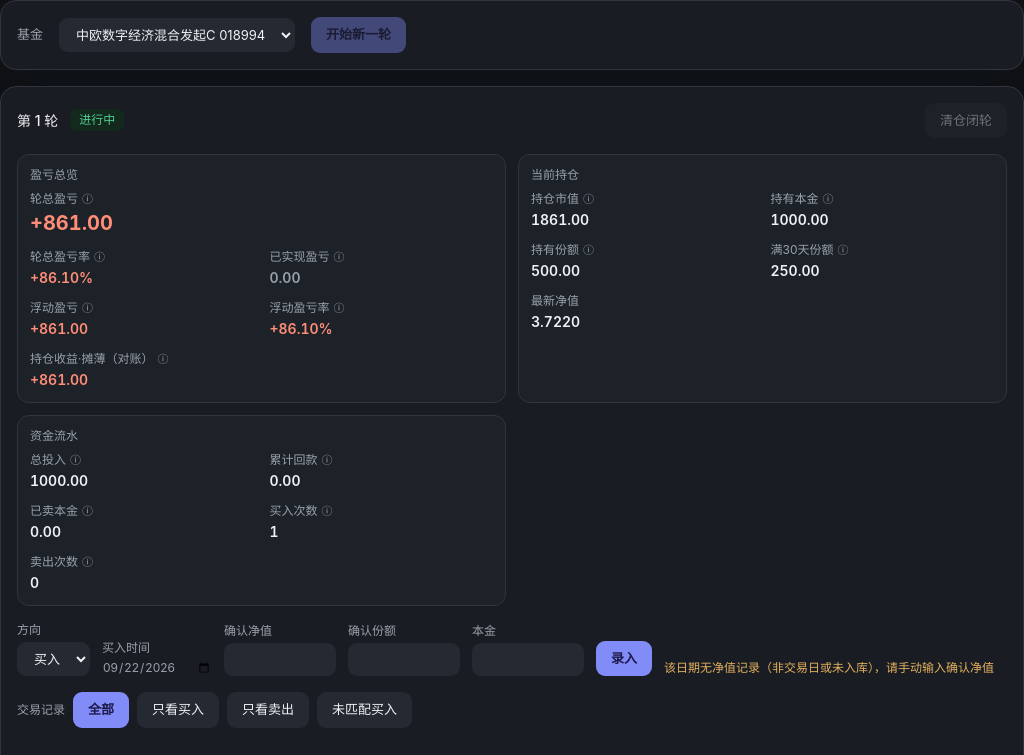
Rounds › 交易表过滤：买入 / 卖出 / 未匹配买入（有剩余份额的批次，含部分卖出）
This screenshot has width=1024, height=755.
Check: the text "第 1 轮" is shown, box [17,110,58,131]
Click the button "只看卖出" at (268, 710), box [227,692,309,728]
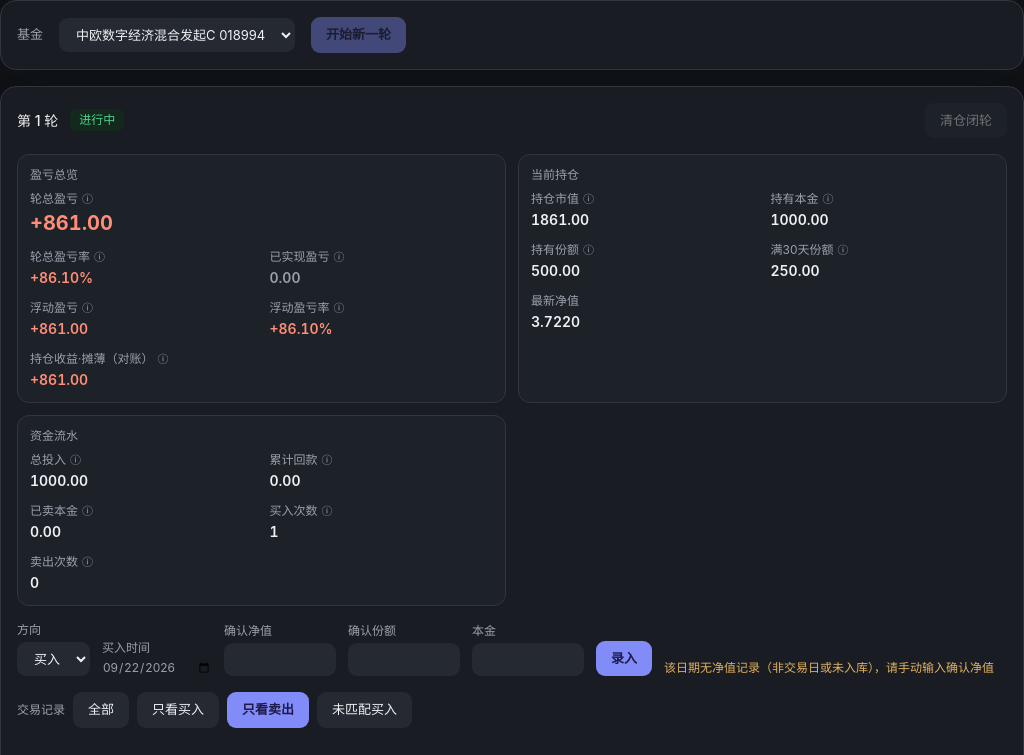
Click the button "只看买入" at (178, 710), box [137,692,219,728]
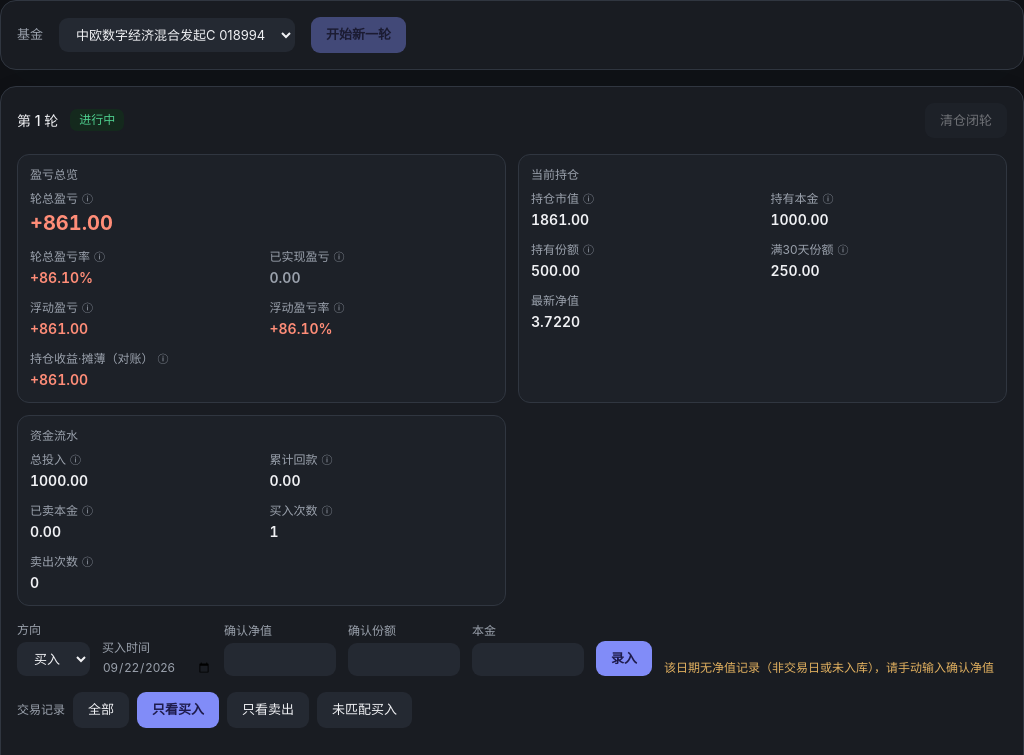
只显示未匹配买入：仅剩有剩余份额的买入 11
Click the button "未匹配买入" at (365, 710), box [317,692,412,728]
(page scrolled)
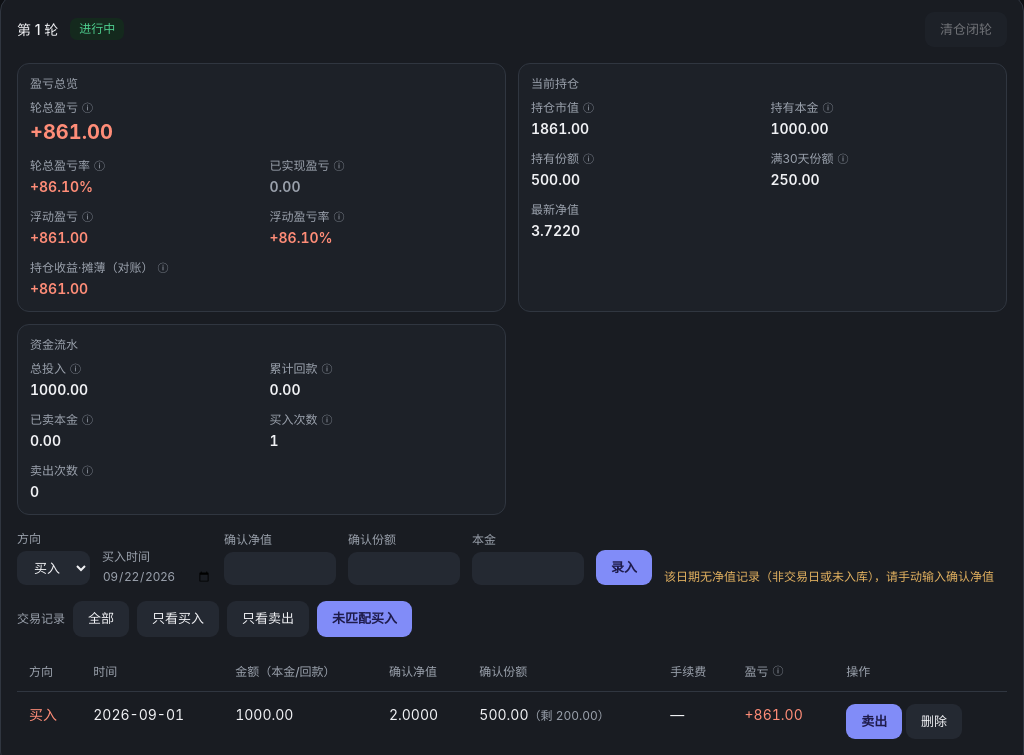
Check: the text "（剩 200.00）" is shown, box [528,708,610,722]
Check: the number of buttons "删除" is 1, box [906,704,962,739]
